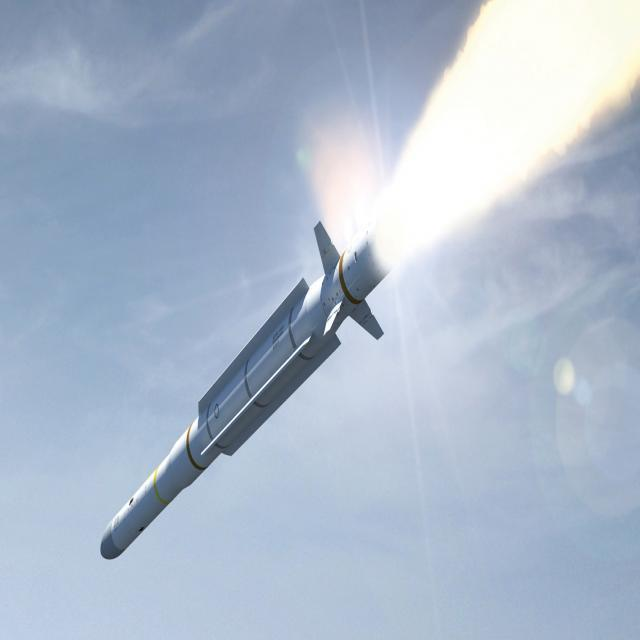missile: (92, 215, 422, 580)
